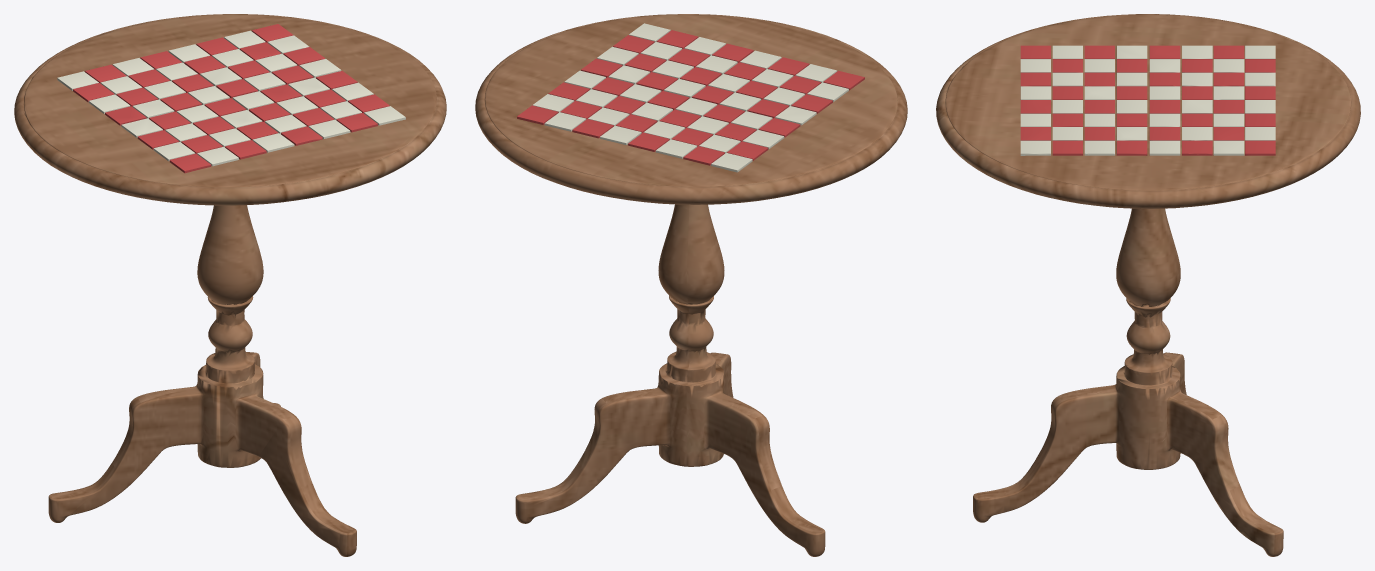
Rendered from board.glb.
3 renders of one model, left to right at view 1: azimuth 30°, elevation 25°; view 2: azimuth 150°, elevation 25°; view 3: azimuth 270°, elevation 25°, orthographic.
Visible parts, largest first — view 1: tabal:pPlane4_aiStandardSurface1_0; view 2: tabal:pPlane4_aiStandardSurface1_0; view 3: tabal:pPlane4_aiStandardSurface1_0.
Boxes of the visible parts, left/top/right/bottom form: tabal:pPlane4_aiStandardSurface1_0: left=14, top=14, right=446, bottom=556; tabal:pPlane4_aiStandardSurface1_0: left=475, top=14, right=907, bottom=556; tabal:pPlane4_aiStandardSurface1_0: left=936, top=14, right=1360, bottom=556.
Bounding box in the file's own units: 13.57 × 13.94 × 13.23.
3 materials, 1 textured.
